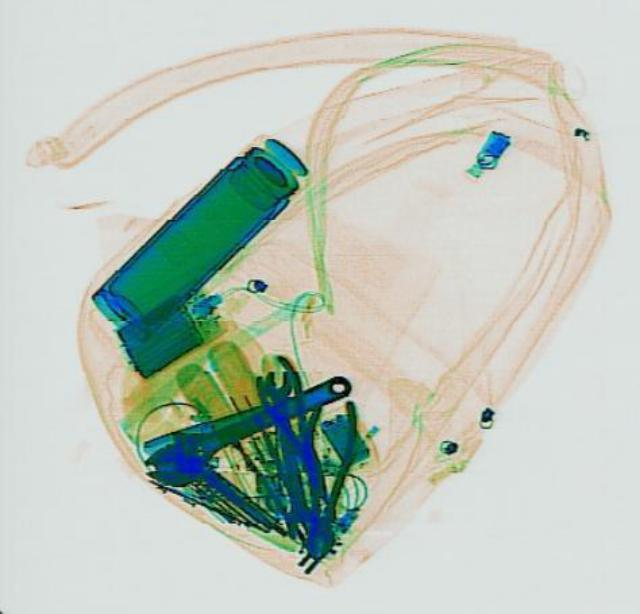Pliers: (242, 349, 336, 482), (294, 395, 358, 556)
Wrench: (132, 355, 360, 492)
